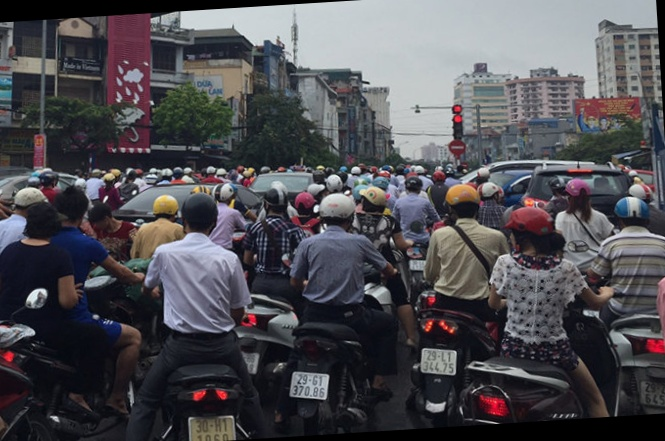Bien-so: (170, 415, 215, 441), (272, 380, 310, 410), (402, 366, 437, 397), (614, 418, 652, 441), (228, 355, 246, 380), (401, 276, 417, 290)
